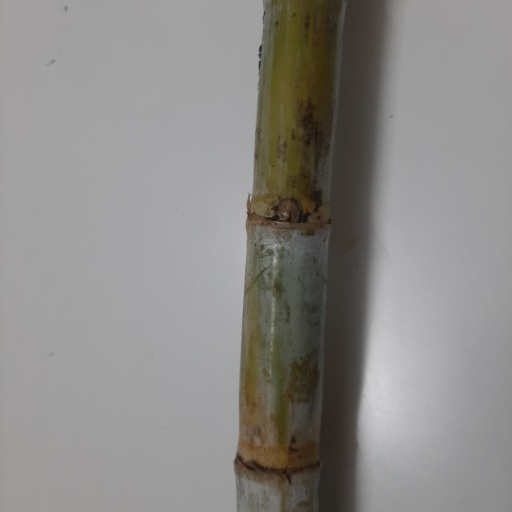Bud: (275, 197, 303, 223)
